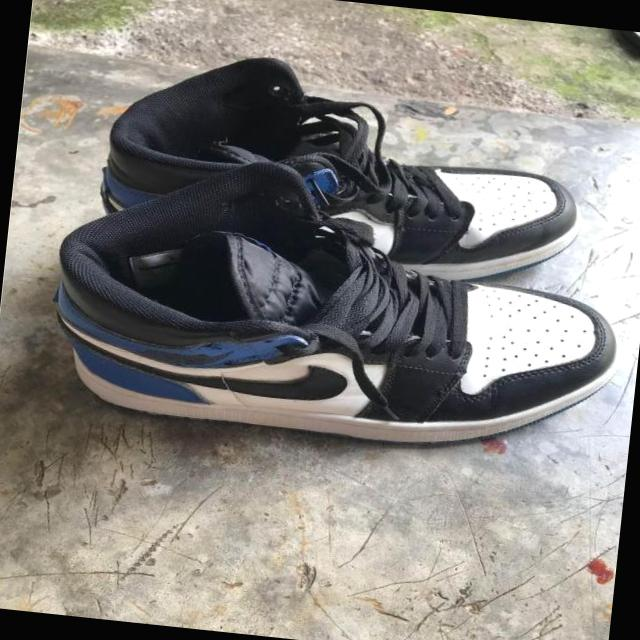nike_fake_jordan: (6, 136, 628, 470), (93, 37, 592, 296)
